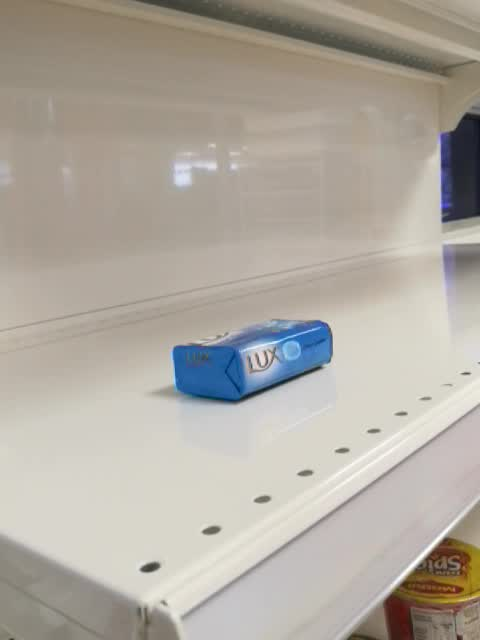soap: (173, 318, 335, 403)
